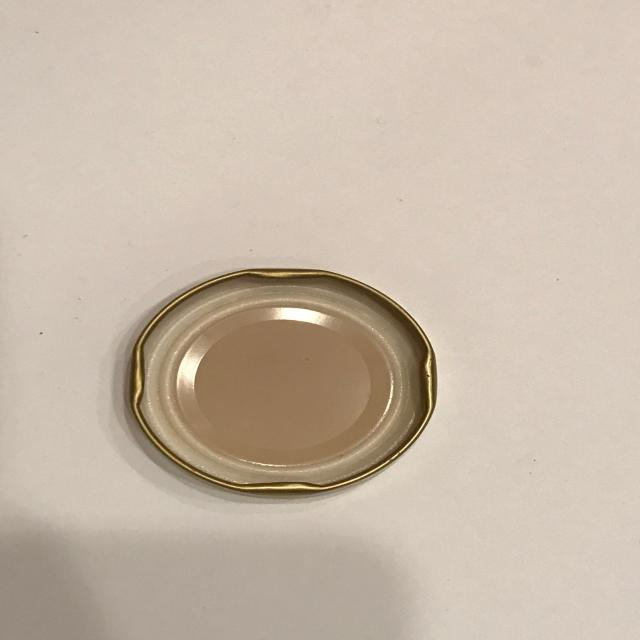metal: (125, 268, 442, 498)
